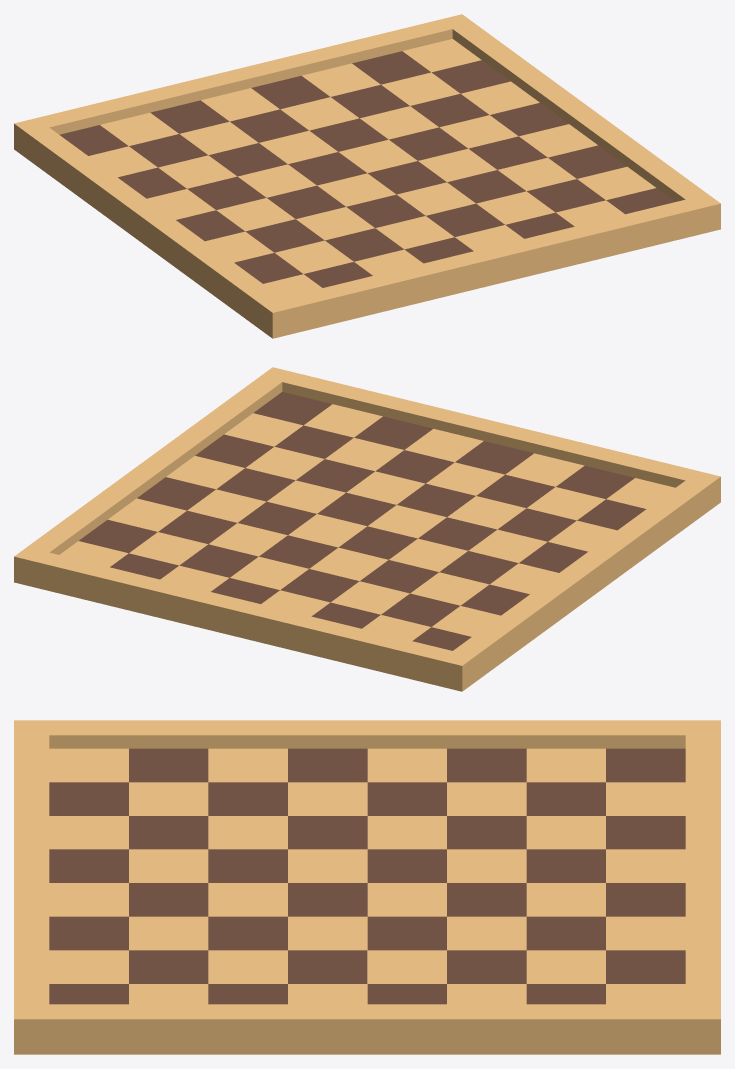
The model's file is checkerboard.glb.
3 views of the same model, one above another, from view 1: azimuth 30°, elevation 25°; view 2: azimuth 150°, elevation 25°; view 3: azimuth 270°, elevation 25° (orthographic). The views are drawn at different scales.
Visible parts, largest first — view 1: Checkerboard; view 2: Checkerboard; view 3: Checkerboard.
Part boxes in pixels (bbox=[...]): Checkerboard: bbox=[14, 14, 720, 338]; Checkerboard: bbox=[14, 367, 720, 691]; Checkerboard: bbox=[14, 720, 720, 1054].
Size of the model in its own units: 0.0145 by 0.0008 by 0.0145.
